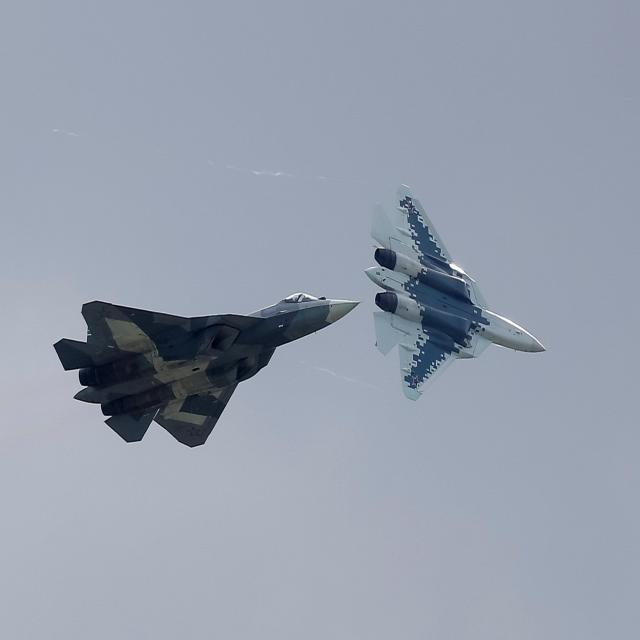MIL_Plane: (53, 291, 364, 447), (364, 183, 546, 401)
